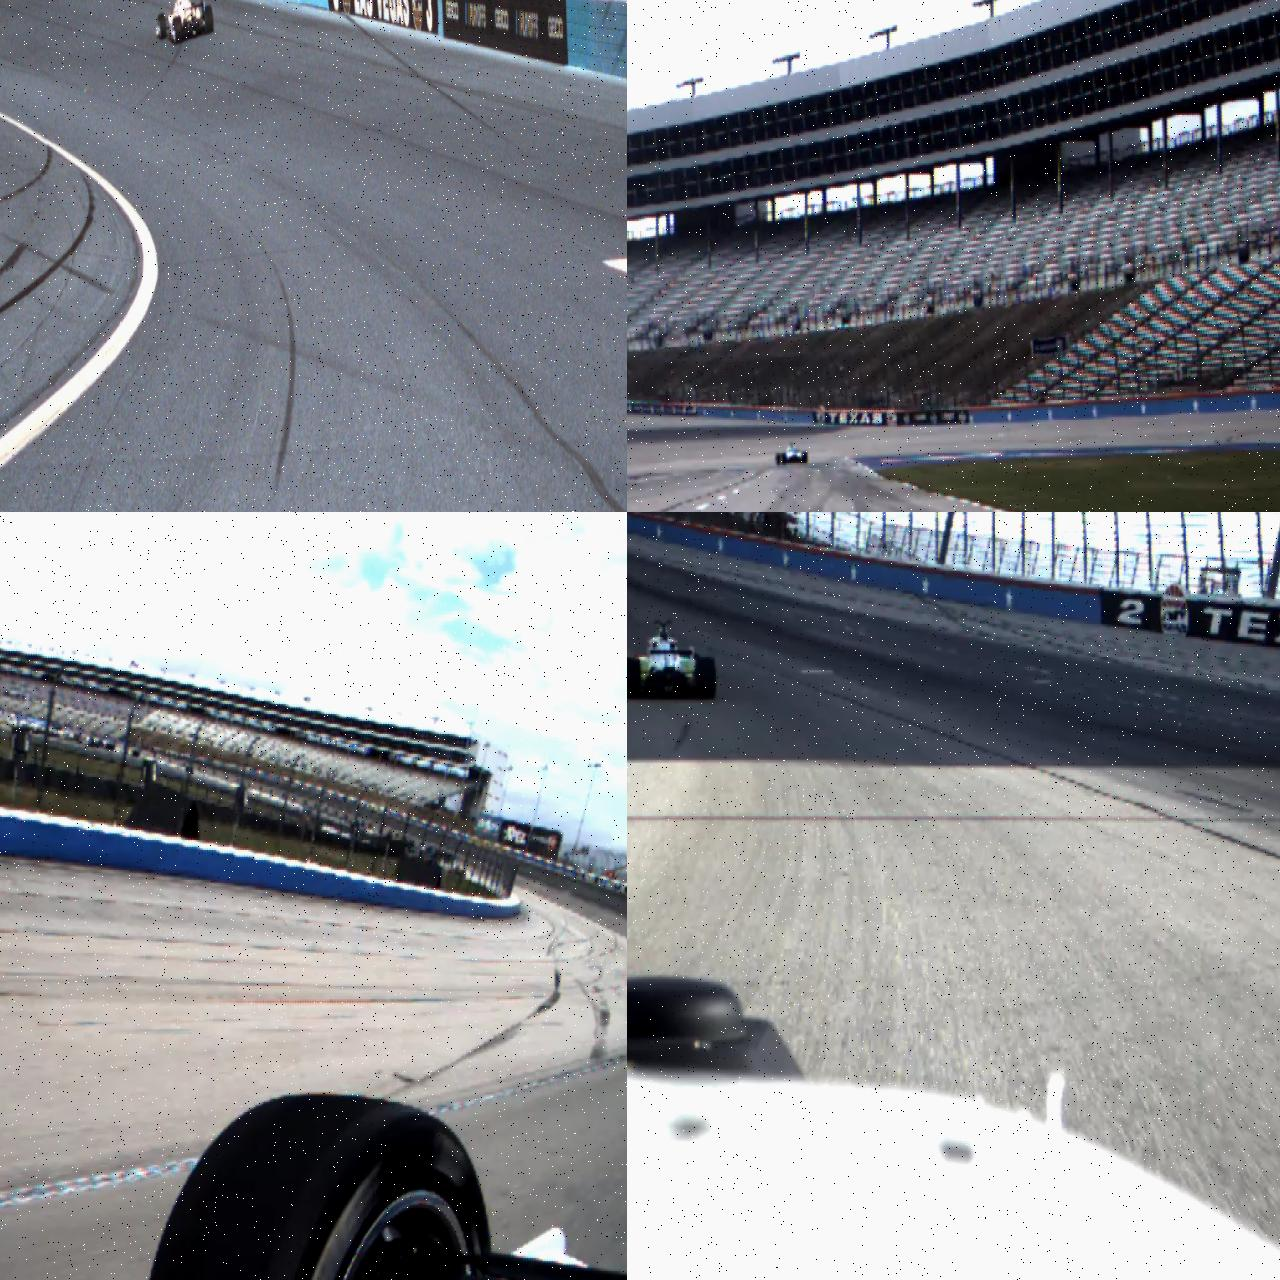AV: (627, 619, 717, 701), (155, 0, 213, 44), (776, 442, 809, 466)
Wheel: (138, 1091, 492, 1280), (696, 657, 716, 701), (627, 658, 639, 700), (204, 5, 214, 34), (172, 16, 182, 44), (158, 12, 166, 40), (802, 450, 808, 464), (776, 452, 780, 466)
